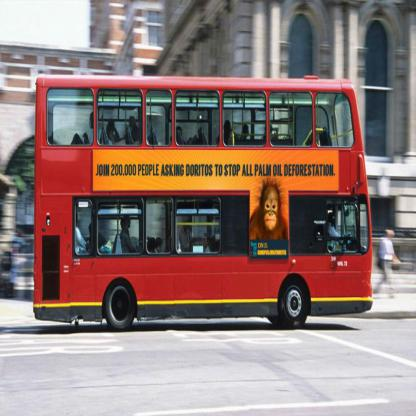Bus: (33, 75, 373, 332)
